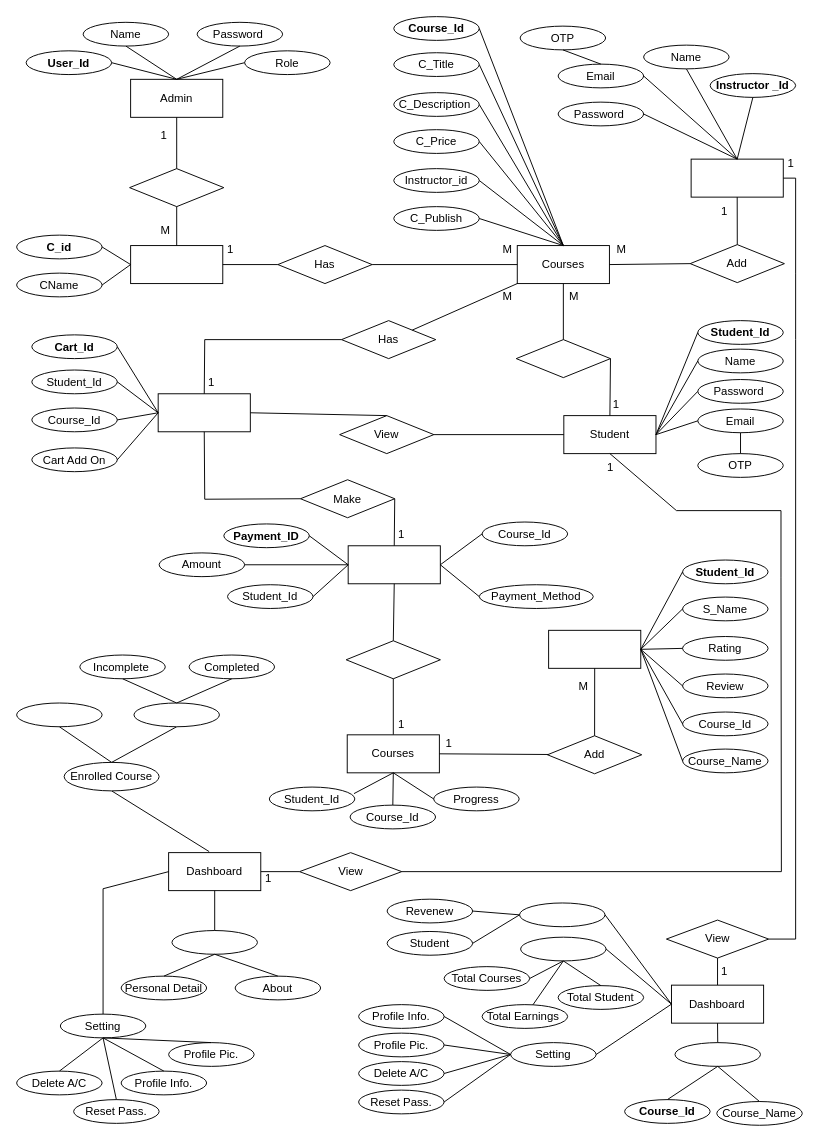
Image size: 819x1142. Some labels were removed from this diagram. The centre of each missing label's shape, as x and y in pixels:
Adds: the point at 176,187
Browse: the point at 562,358
Cart: the point at 203,412
Category: the point at 176,264
Course Name: the point at 59,714
Created Courses: the point at 717,1054
Enrolled: the point at 392,659
Instructor: the point at 736,177
Payment: the point at 393,564
Progress Track: the point at 176,714
Rating & Review: the point at 594,648
Statistics: the point at 563,948
Student Profile: the point at 214,942
Visualize: the point at 562,914
